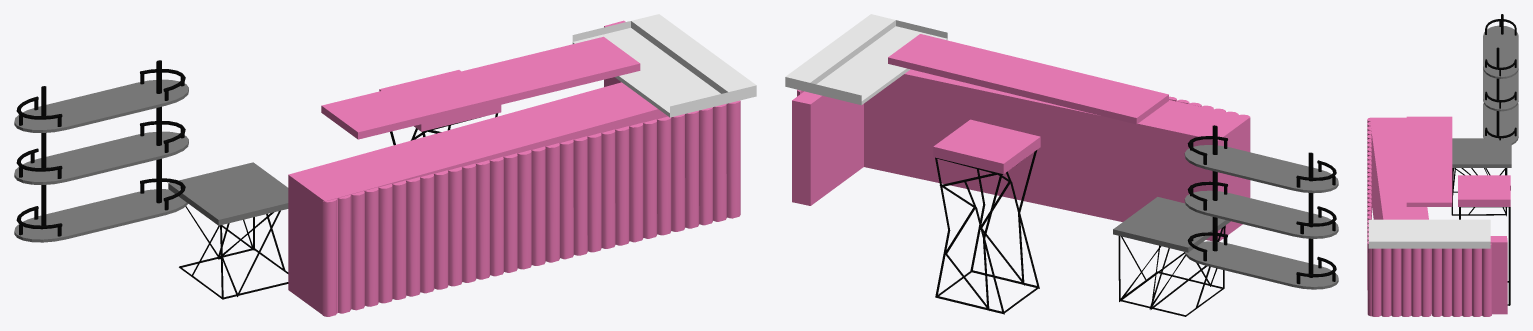
Rendered from coffeeroompink.FBX.
3 renders of one model, left to right at view 1: azimuth 30°, elevation 25°; view 2: azimuth 150°, elevation 25°; view 3: azimuth 270°, elevation 25°, orthographic. The views are drawn at different scales.
Parts seen in each view (by area): view 1: Box077, Box094, Box096, Box082, Capsule002, Capsule003, Capsule001, Line025, Cylinder136, Cylinder147, Cylinder153, Cylinder148 (+29 smaller); view 2: Box077, Box094, Box096, Box080, Capsule002, Capsule003, Line020, Capsule001, Box082, Line025, Cylinder101, Cylinder102; view 3: Box077, Box094, Box096, Box082, Box080, Capsule003, Capsule002, Capsule001, Cylinder156, Cylinder157, Cylinder155, Cylinder159 (+12 smaller).
Part boxes in pixels (x1,y1,x2,y2): Box077: [288, 20, 667, 316]; Box094: [321, 36, 640, 139]; Box096: [572, 14, 756, 117]; Box082: [168, 162, 288, 225]; Capsule002: [14, 131, 188, 184]; Capsule003: [14, 79, 188, 132]; Capsule001: [14, 189, 187, 242]; Line025: [179, 206, 288, 299]; Cylinder136: [517, 150, 531, 269]; Cylinder147: [629, 122, 643, 242]; Cylinder153: [545, 143, 559, 262]; Cylinder148: [615, 126, 629, 245]; Box077: [792, 69, 1249, 241]; Box094: [888, 34, 1168, 124]; Box096: [785, 14, 947, 105]; Box080: [933, 119, 1040, 174]; Capsule002: [1184, 190, 1338, 238]; Capsule003: [1184, 145, 1338, 193]; Line020: [935, 150, 1039, 314]; Capsule001: [1185, 241, 1338, 289]; Box082: [1113, 197, 1230, 252]; Line025: [1118, 225, 1225, 316]; Cylinder101: [1308, 152, 1313, 277]; Cylinder102: [1212, 125, 1217, 251]; Box077: [1369, 117, 1507, 314]; Box094: [1406, 116, 1452, 206]; Box096: [1368, 219, 1490, 248]; Box082: [1452, 138, 1511, 167]; Box080: [1458, 175, 1510, 206]; Capsule003: [1483, 25, 1518, 78]; Capsule002: [1483, 68, 1518, 111]; Capsule001: [1483, 103, 1518, 144]; Cylinder156: [1391, 248, 1401, 316]; Cylinder157: [1401, 248, 1411, 316]; Cylinder155: [1381, 248, 1391, 316]; Cylinder159: [1421, 248, 1431, 316].
Size of the model in its own units: 84.56 by 33.6 by 28.05.
